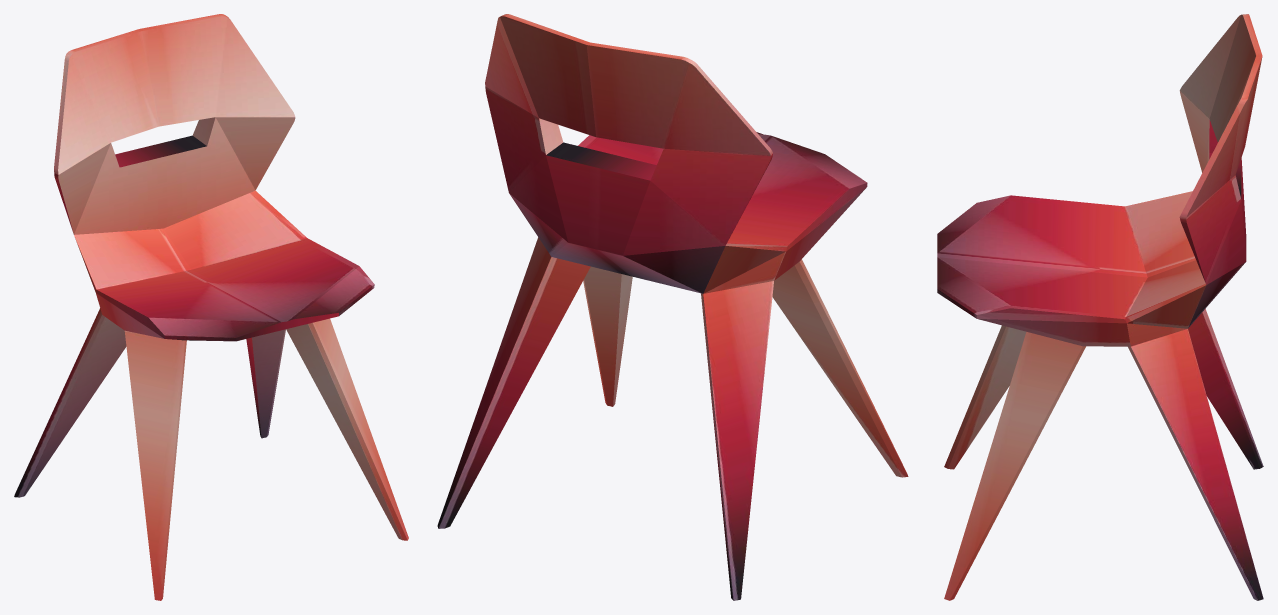
File: chair-model-10.glb
The picture shows the model from 3 angles, left to right: view 1: azimuth 30°, elevation 25°; view 2: azimuth 150°, elevation 25°; view 3: azimuth 270°, elevation 25°; orthographic projection. The views are drawn at different scales.
Parts seen in each view (by area): view 1: 11.010; view 2: 11.010; view 3: 11.010.
Part boxes in pixels (x1,y1,x2,y2): 11.010: (14,14,408,600); 11.010: (437,14,908,600); 11.010: (937,14,1263,600).
Size of the model in its own units: 3.13 by 5.14 by 3.18.
1 material, 1 textured.
